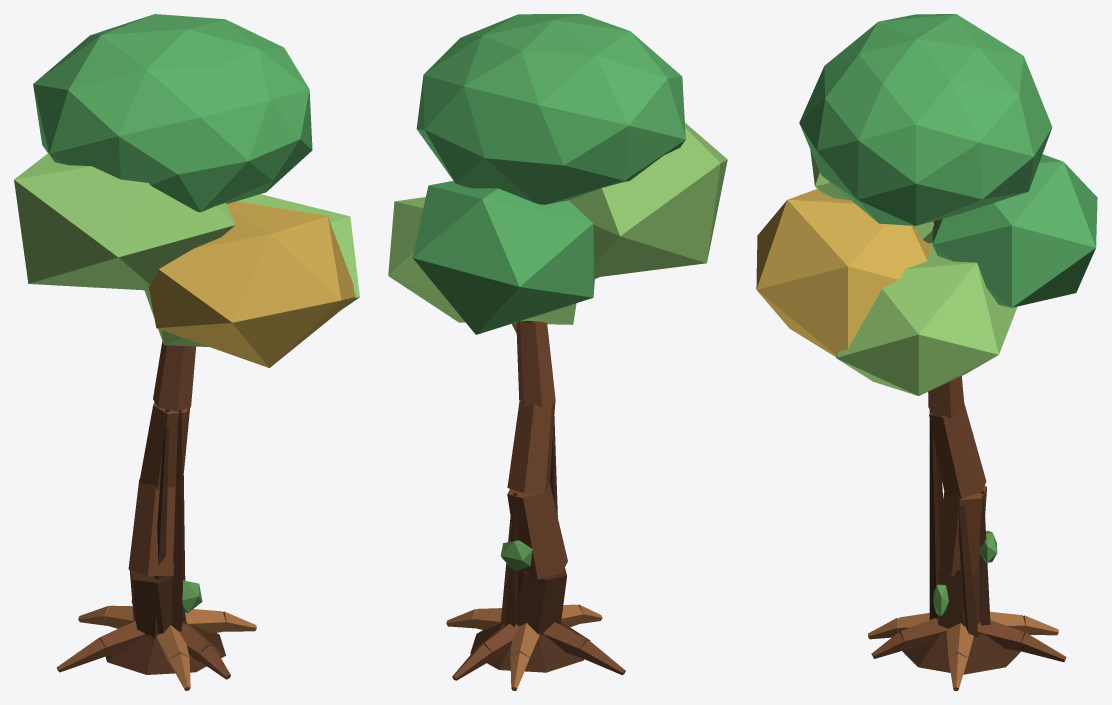
File: tree_crooked_d.glb
3 views of the same model, side by side, from view 1: azimuth 30°, elevation 25°; view 2: azimuth 150°, elevation 25°; view 3: azimuth 270°, elevation 25° (orthographic). The views are drawn at different scales.
Parts seen in each view (by area): view 1: TreeCrookedD; view 2: TreeCrookedD; view 3: TreeCrookedD.
Boxes of the visible parts, left/top/right/bottom form: TreeCrookedD: left=14, top=14, right=359, bottom=690; TreeCrookedD: left=388, top=14, right=727, bottom=690; TreeCrookedD: left=756, top=14, right=1097, bottom=690.
Bounding box in the file's own units: 7.05 × 12.76 × 6.43.
